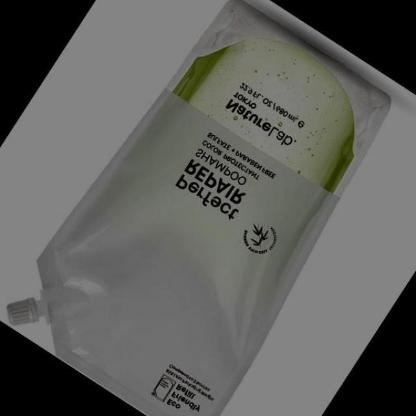Plastic Packaging: (6, 1, 392, 415)
